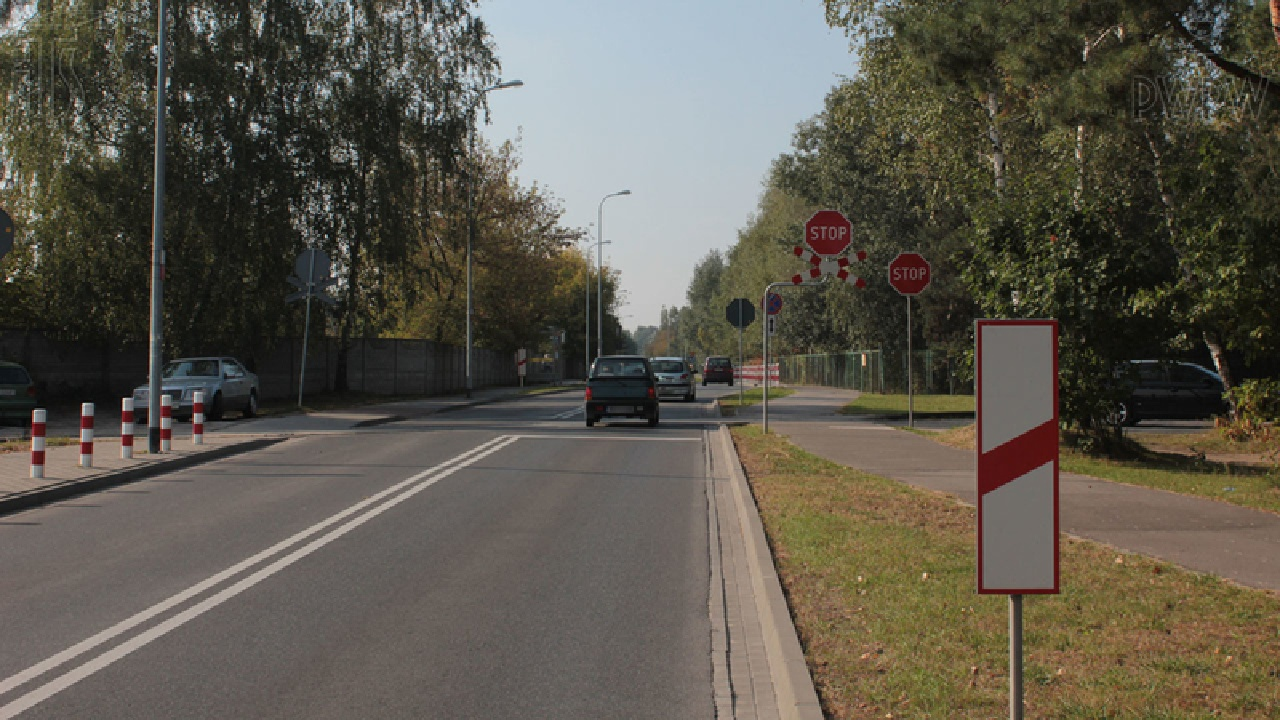B20: (803, 209, 853, 256), (888, 252, 932, 296)
